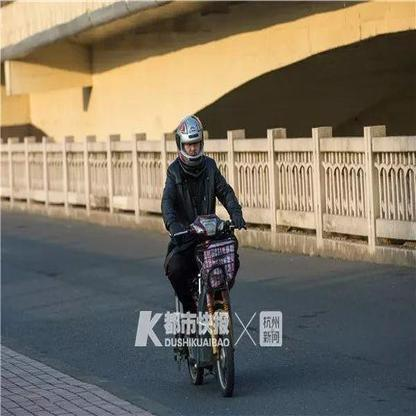target: (163, 115, 257, 399)
